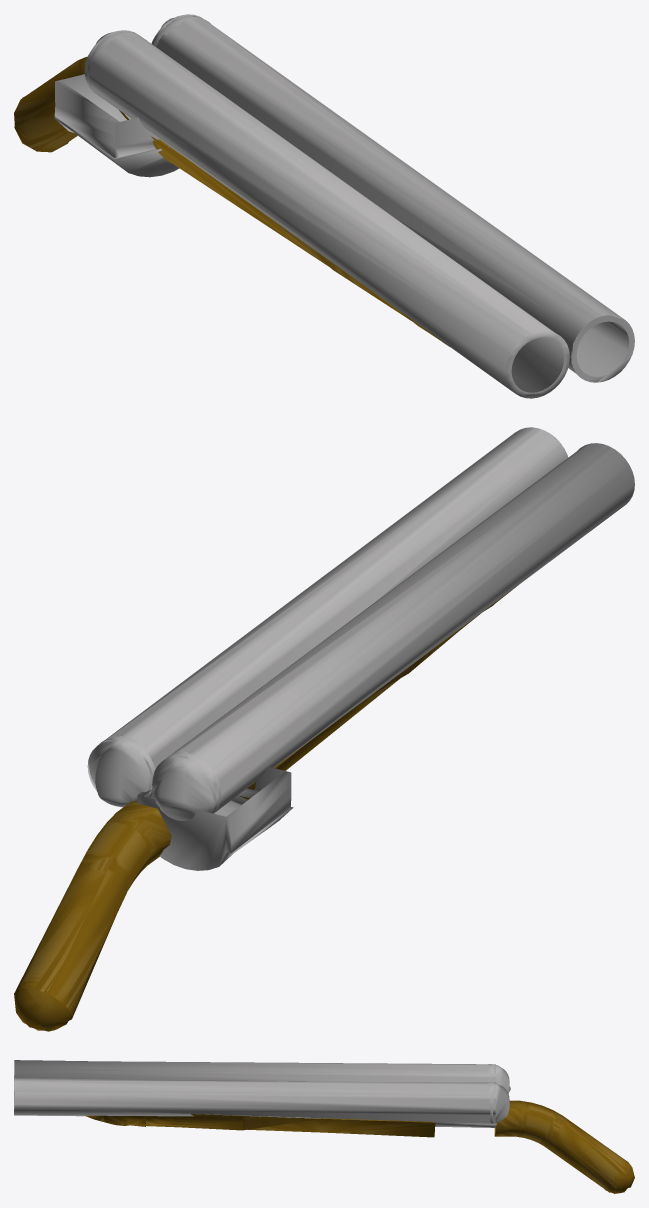
File: escopeta.fbx
The picture shows the model from 3 angles, top to bottom: view 1: azimuth 30°, elevation 25°; view 2: azimuth 150°, elevation 25°; view 3: azimuth 270°, elevation 25°; orthographic projection. The views are drawn at different scales.
Visible parts, largest first — view 1: canons, recarrega, culata_ok, guardamanos; view 2: canons, culata_ok, recarrega, guardamanos; view 3: canons, culata_ok, guardamanos, recarrega.
Part boxes in pixels (x1=…): canons: x1=84, y1=14, x2=634, y2=398; recarrega: x1=54, y1=74, x2=179, y2=177; culata_ok: x1=14, y1=57, x2=129, y2=152; guardamanos: x1=151, y1=136, x2=449, y2=346; canons: x1=87, y1=427, x2=634, y2=820; culata_ok: x1=14, y1=801, x2=171, y2=1031; recarrega: x1=137, y1=767, x2=293, y2=870; guardamanos: x1=238, y1=586, x2=516, y2=799; canons: x1=14, y1=1060, x2=510, y2=1123; culata_ok: x1=494, y1=1100, x2=634, y2=1193; guardamanos: x1=85, y1=1114, x2=435, y2=1137; recarrega: x1=434, y1=1122, x2=496, y2=1127.
Size of the model in its own units: 0.6342 by 0.8287 by 3.87.
Materials: 4 (4 with a texture image).
